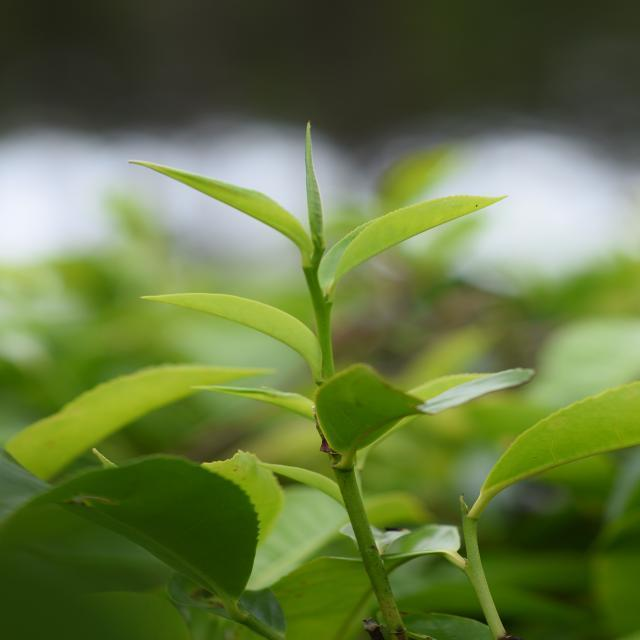Stem: (464, 557, 487, 591), (315, 299, 331, 340)
